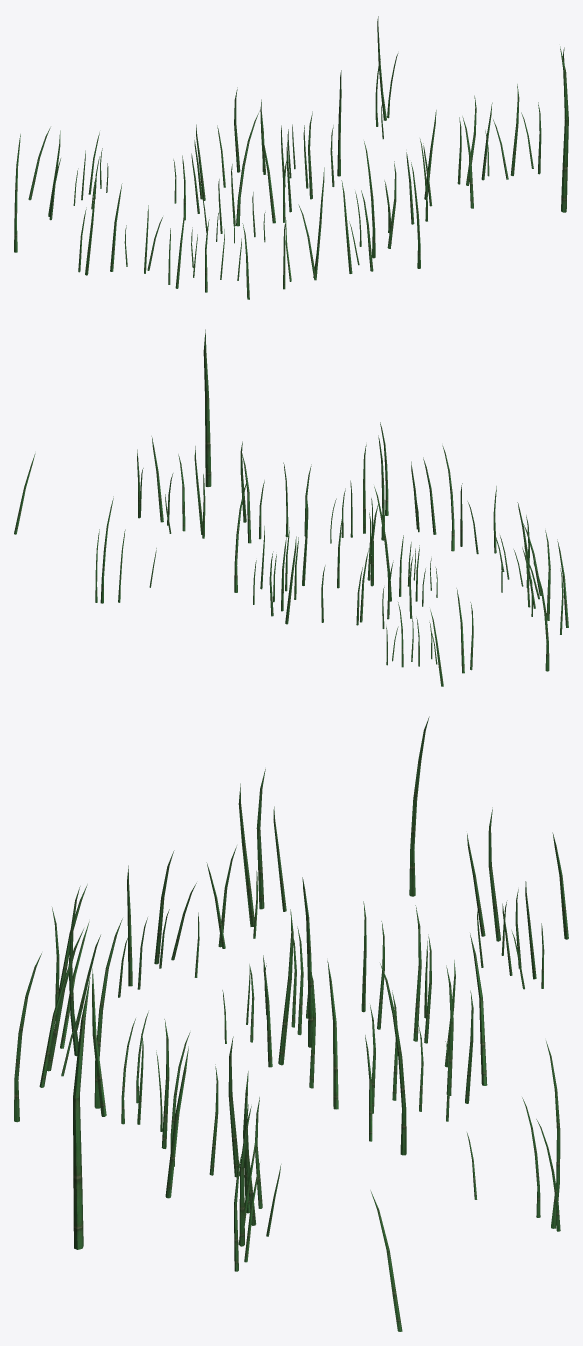
Rendered from Area_11_15.fbx.
The picture shows the model from 3 angles, top to bottom: view 1: azimuth 30°, elevation 25°; view 2: azimuth 150°, elevation 25°; view 3: azimuth 270°, elevation 25°; orthographic projection. The views are drawn at different scales.
Visible parts, largest first — view 1: Area_11_15; view 2: Area_11_15; view 3: Area_11_15.
Part boxes in pixels (<box>): Area_11_15: <box>14,16,568,299</box>; Area_11_15: <box>14,329,568,686</box>; Area_11_15: <box>14,716,568,1331</box>.
Bounding box in the file's own units: 10779 × 3244 × 5692.
